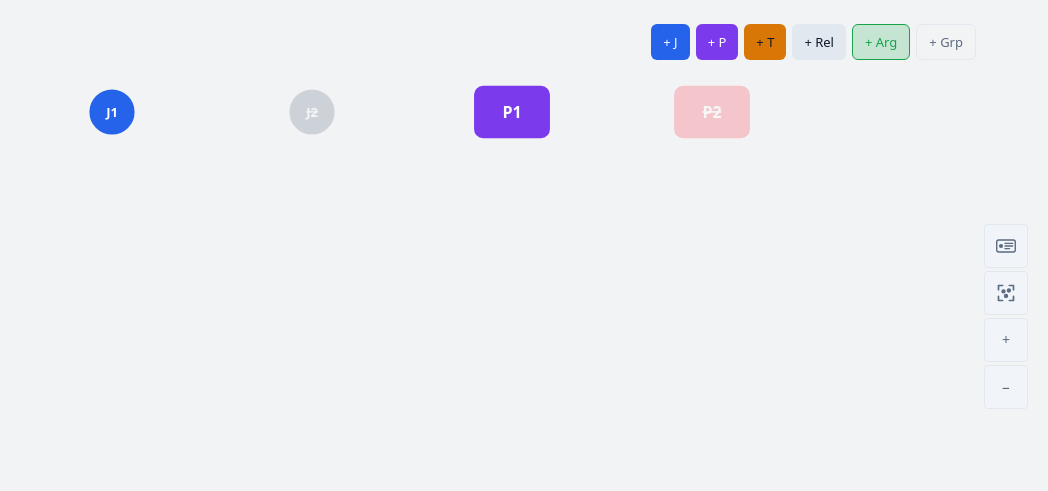
Test case: clicking a node pins its tooltip › shows the statement for a node
Press the mouse on the icon "J1 P1 J2 P2" at (524, 212), box [12, 12, 1036, 412]
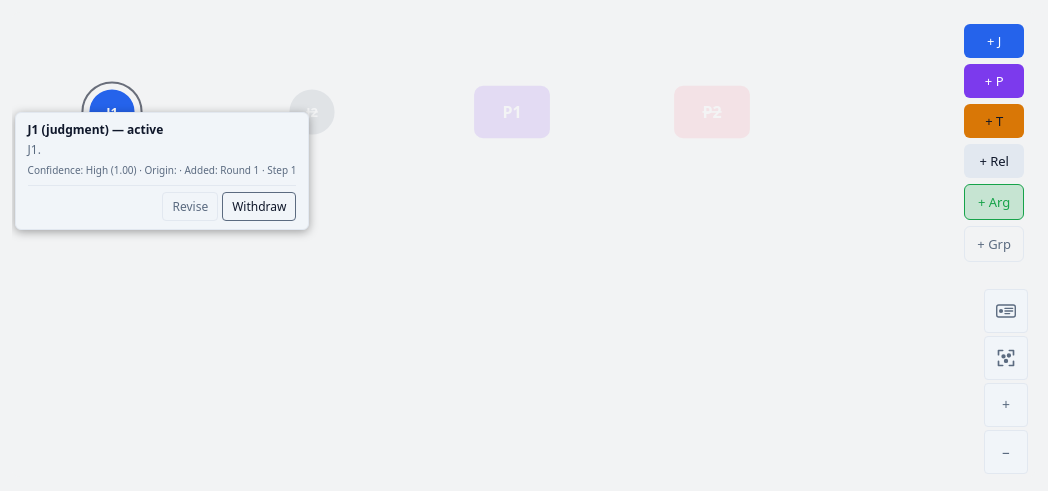
expect the element that starts with "J1 (judgment) — active" shows "J1.": met, box [28, 141, 41, 158]
